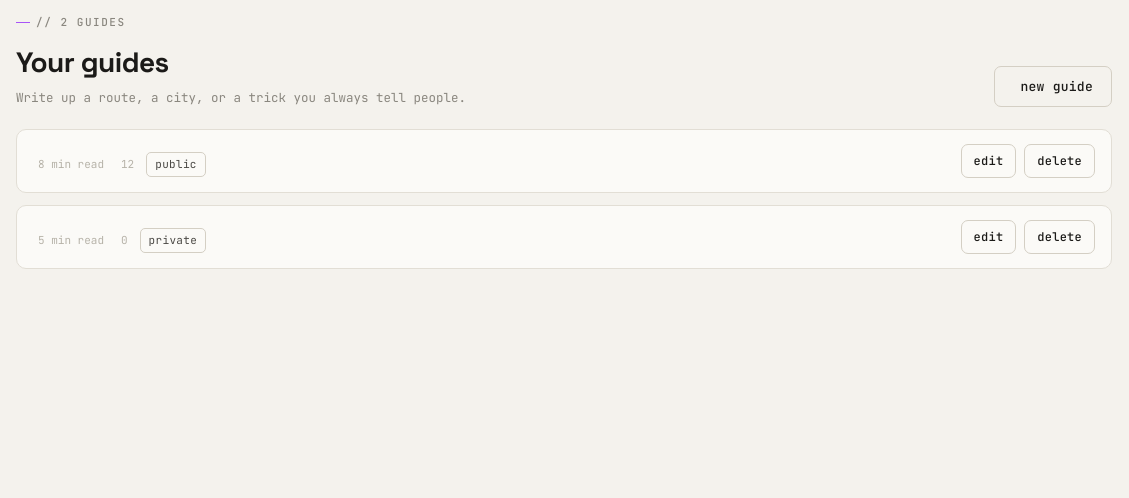
Test: Guides page (/guides) › new guide form › shows the new guide form when the button is clicked
Click the button "new guide" at (1053, 87), box left=994, top=66, right=1112, bottom=107
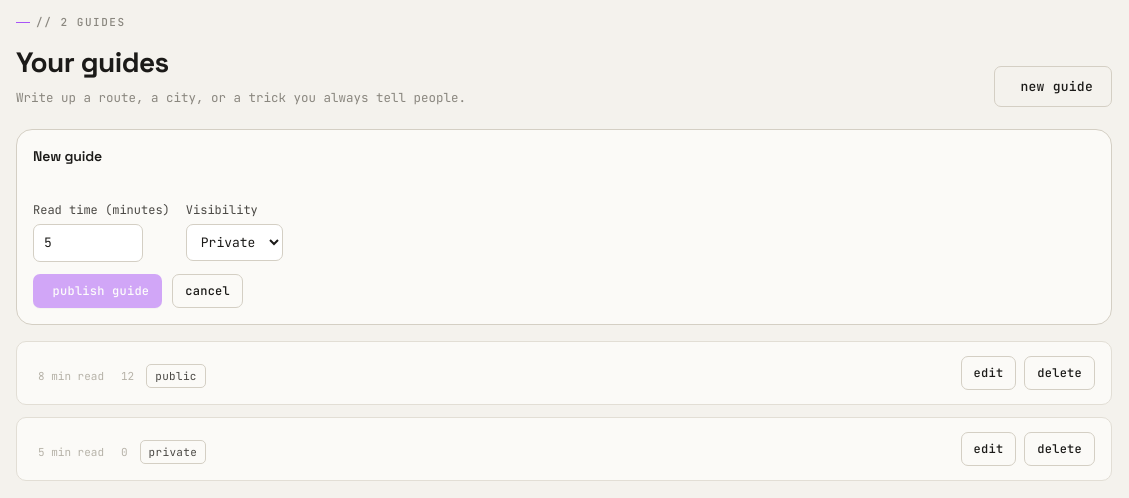
Result: the element with class "guide-form" is shown at left=16, top=129, right=1112, bottom=325
